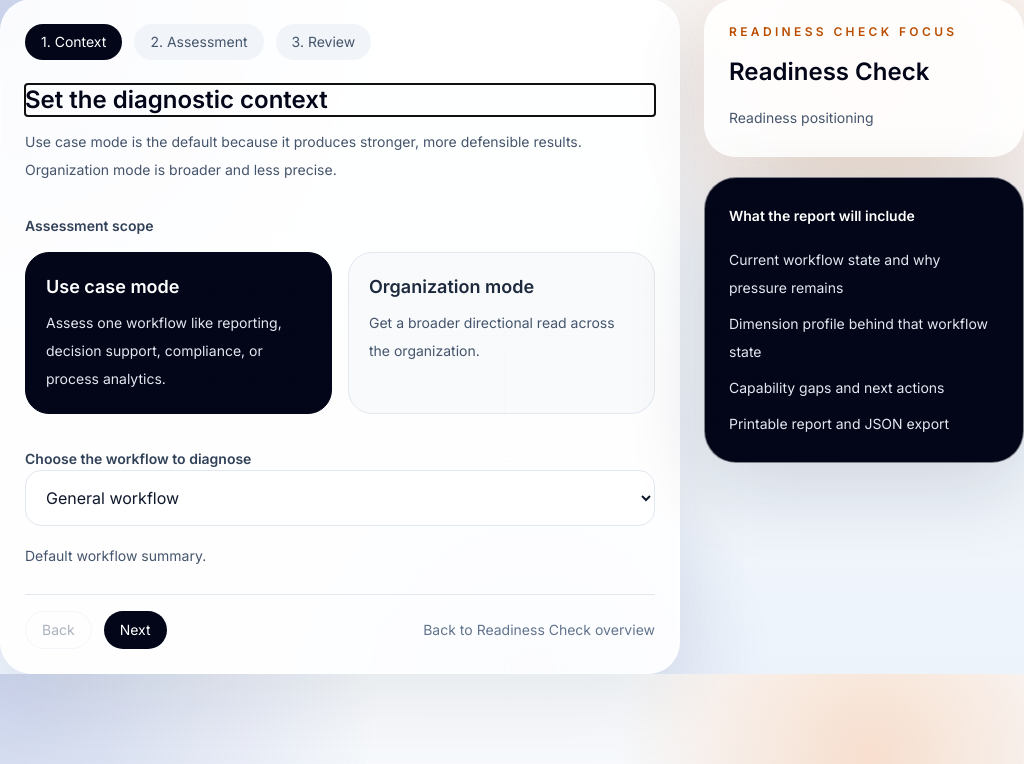
it: AssessmentFlow › allows review navigation with unanswered questions and keeps generation locked
Click the button "Next" at {"x": 135, "y": 630}, box [104,611,167,649]
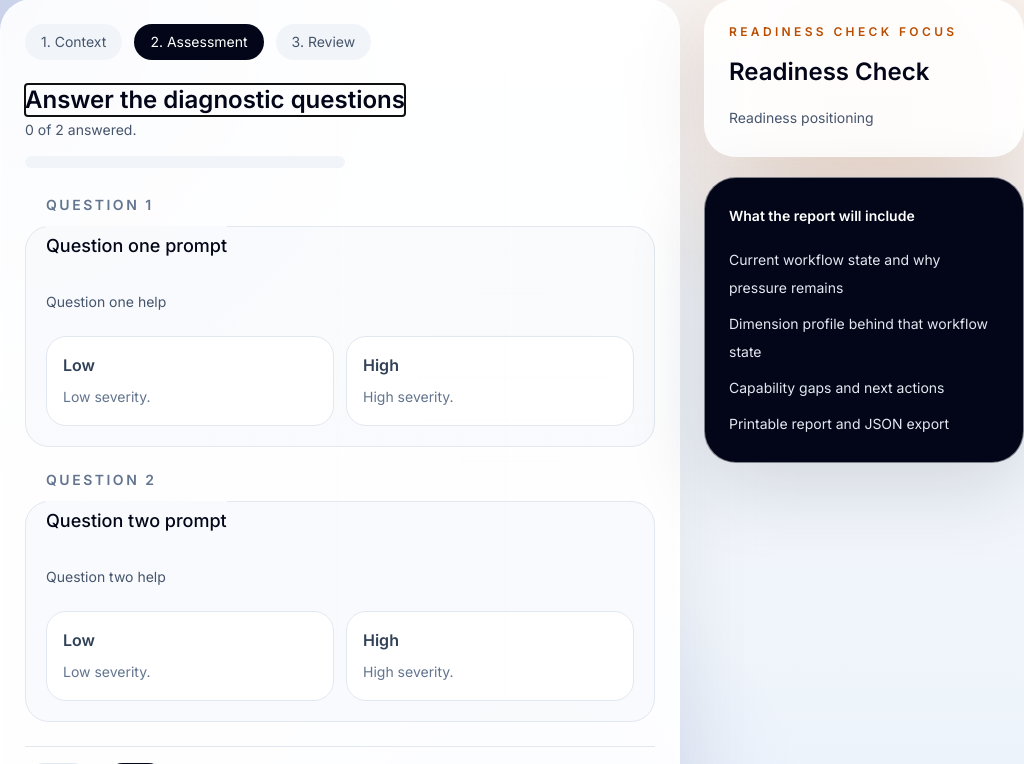
Result: the text "Question one prompt" is shown at [46,235,227,256]
Click the radio button labelled "High High severity." below "Question one help" at {"x": 381, "y": 365}, box [346,336,634,426]
(page scrolled)
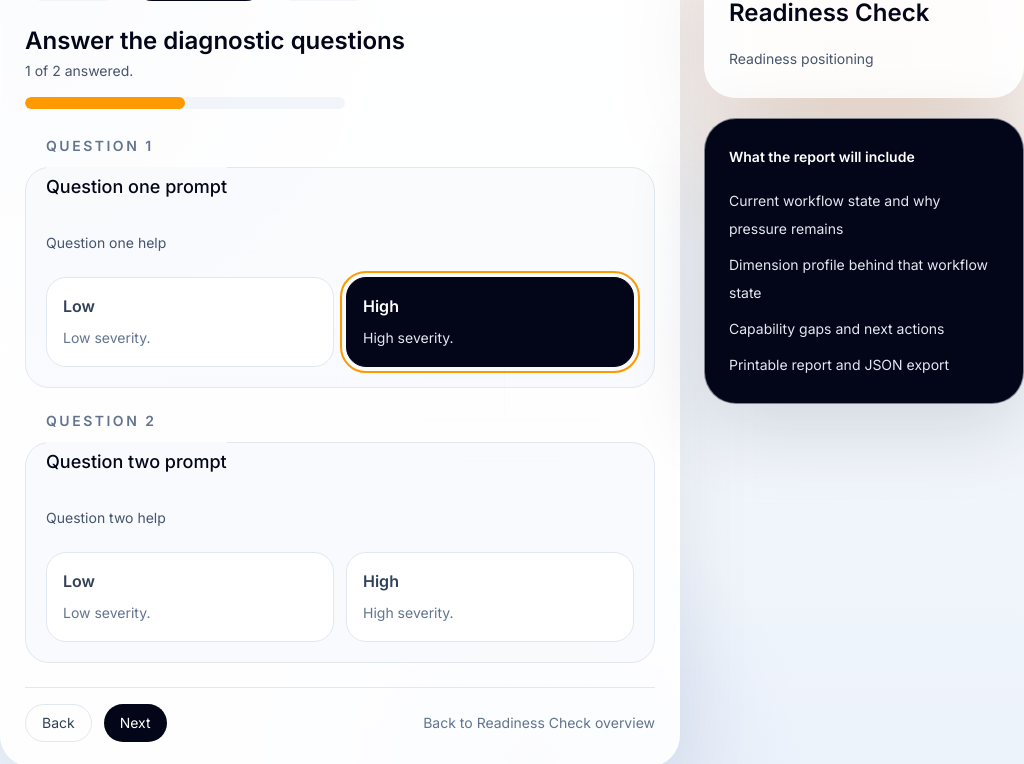
Click the button "Next" at {"x": 135, "y": 723}, box [104,704,167,742]
(page scrolled)
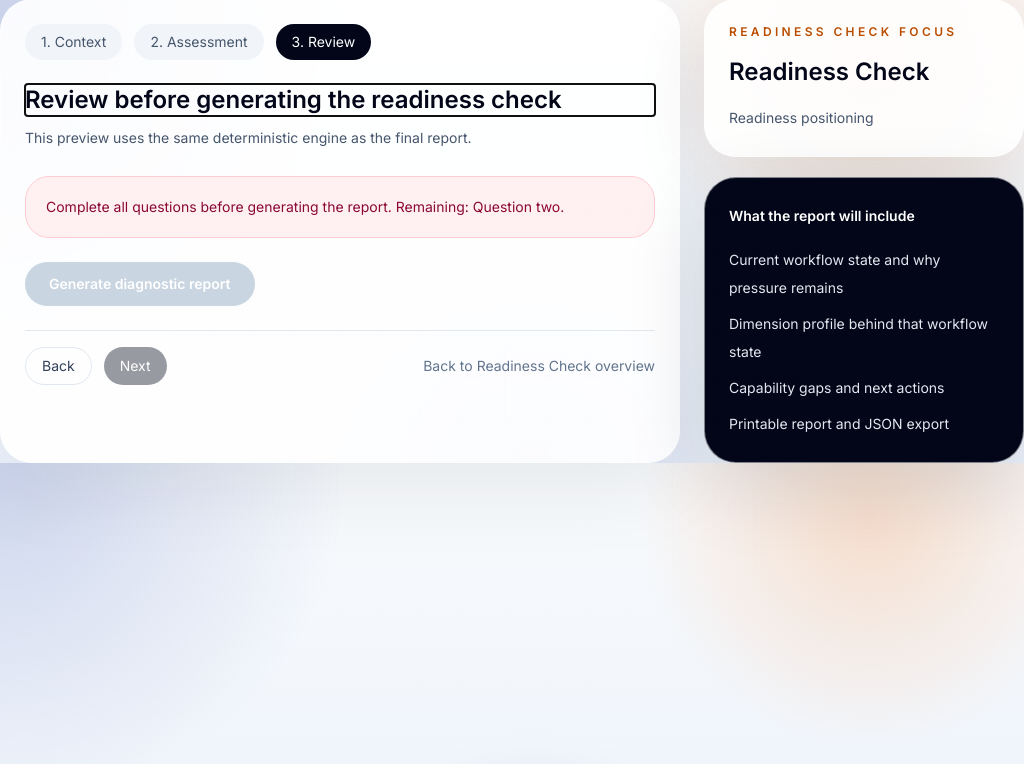
Result: the heading "Review before generating the readiness check" is shown at [25,84,655,116]
Result: the text "Complete all questions before generating the report" is shown at [46,198,469,215]
Result: the button "Generate diagnostic report" is disabled at [25,262,254,306]
